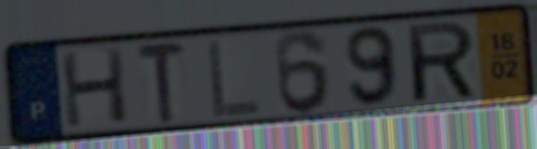6: (272, 27, 335, 117)
9: (343, 23, 401, 109)
H: (57, 45, 132, 130)
L: (204, 35, 264, 121)
R: (403, 18, 480, 106)
T: (133, 40, 190, 126)
